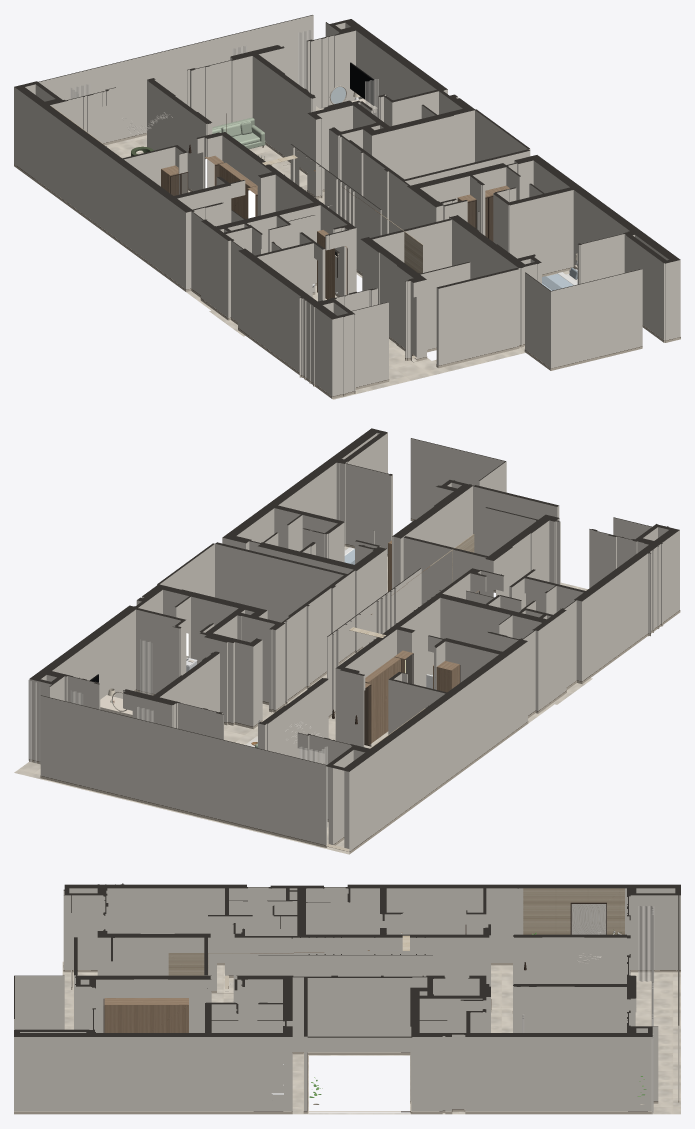
File: ff_house_v17.glb
The picture shows the model from 3 angles, top to bottom: view 1: azimuth 30°, elevation 25°; view 2: azimuth 150°, elevation 25°; view 3: azimuth 270°, elevation 25°; orthographic projection. The views are drawn at different scales.
Parts seen in each view (by area): view 1: MeshStandardMaterial_14, MeshStandardMaterial_15, MeshStandardMaterial_1, MeshStandardMaterial_7, MeshStandardMaterial_16, MeshStandardMaterial_104, MeshStandardMaterial_87, MeshStandardMaterial_5, MeshStandardMaterial_96; view 2: MeshStandardMaterial_14, MeshStandardMaterial_15, MeshStandardMaterial_7, MeshStandardMaterial_16, MeshStandardMaterial_1, MeshStandardMaterial_104, MeshStandardMaterial_87; view 3: MeshStandardMaterial_14, MeshStandardMaterial_15, MeshStandardMaterial_1, MeshStandardMaterial_5, MeshStandardMaterial_16, MeshStandardMaterial_7, MeshStandardMaterial_104, MeshStandardMaterial_91.
Part boxes in pixels (x1=…): MeshStandardMaterial_14: x1=14, y1=15, x2=680, y2=396; MeshStandardMaterial_15: x1=14, y1=15, x2=680, y2=319; MeshStandardMaterial_1: x1=105, y1=135, x2=569, y2=399; MeshStandardMaterial_7: x1=161, y1=155, x2=509, y2=299; MeshStandardMaterial_16: x1=14, y1=133, x2=680, y2=398; MeshStandardMaterial_104: x1=70, y1=30, x2=378, y2=117; MeshStandardMaterial_87: x1=170, y1=165, x2=493, y2=294; MeshStandardMaterial_5: x1=51, y1=106, x2=422, y2=273; MeshStandardMaterial_96: x1=350, y1=63, x2=373, y2=104; MeshStandardMaterial_14: x1=29, y1=432, x2=679, y2=853; MeshStandardMaterial_15: x1=29, y1=428, x2=679, y2=771; MeshStandardMaterial_7: x1=364, y1=540, x2=478, y2=744; MeshStandardMaterial_16: x1=29, y1=518, x2=680, y2=853; MeshStandardMaterial_1: x1=14, y1=546, x2=680, y2=854; MeshStandardMaterial_104: x1=28, y1=639, x2=327, y2=827; MeshStandardMaterial_87: x1=364, y1=592, x2=479, y2=745; MeshStandardMaterial_14: x1=14, y1=887, x2=680, y2=1111; MeshStandardMaterial_15: x1=14, y1=883, x2=680, y2=1037; MeshStandardMaterial_1: x1=62, y1=961, x2=680, y2=1114; MeshStandardMaterial_5: x1=168, y1=888, x2=624, y2=975; MeshStandardMaterial_16: x1=14, y1=963, x2=680, y2=1114; MeshStandardMaterial_7: x1=104, y1=932, x2=402, y2=1032; MeshStandardMaterial_104: x1=522, y1=905, x2=654, y2=1113; MeshStandardMaterial_91: x1=571, y1=904, x2=606, y2=934.
Size of the model in its own units: 12.9 by 3.02 by 23.57.
104 materials, 16 textured.
